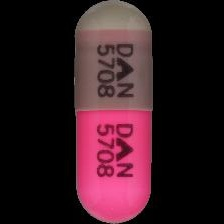49999-011: (0, 0, 224, 224)
